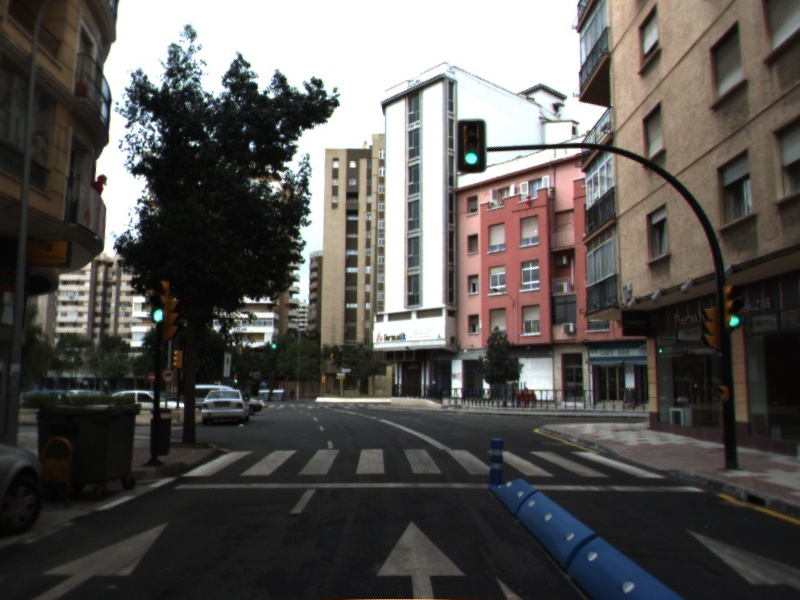STRAIGHT: (21, 518, 173, 600), (371, 517, 471, 600)
